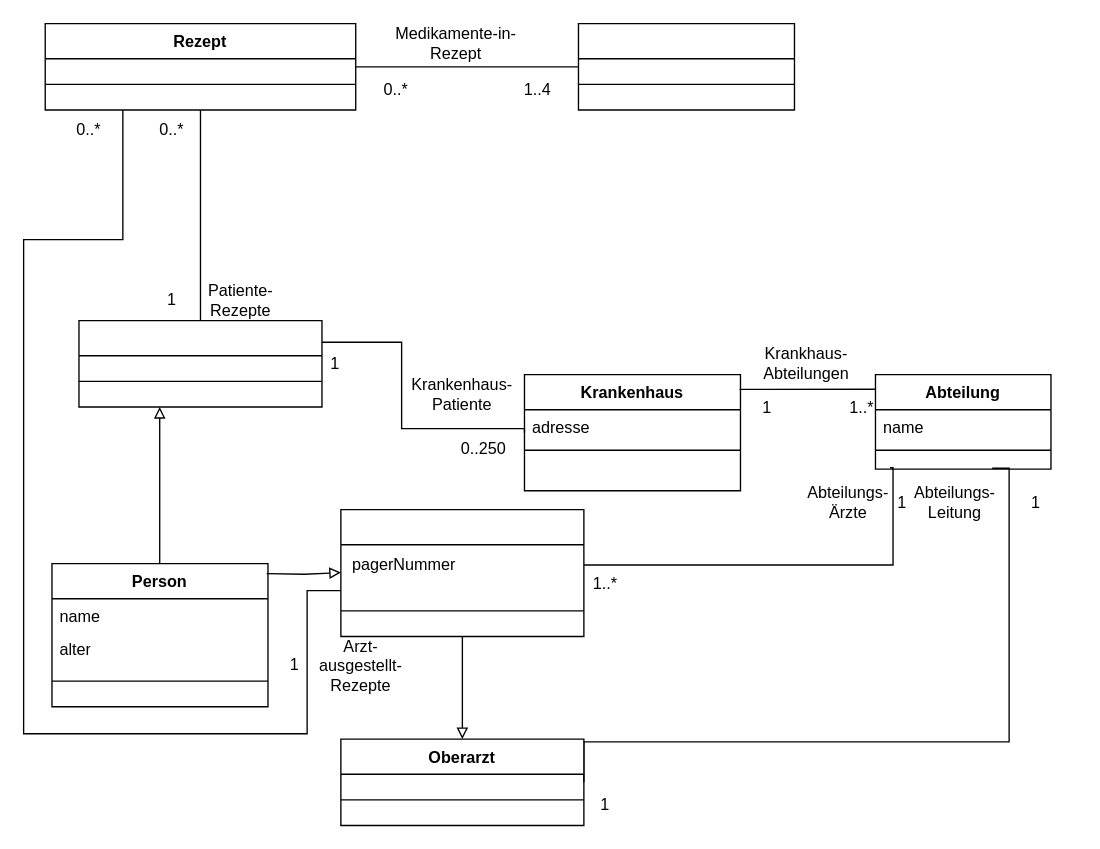
Some shapes in this 1100 by 849 pixel diagram are drawn without their labels. The shapes that lost their labels are listed below. From the top down, each one's box as (x1, y1, x2, y2) in pixels, then its label:
(577, 22, 794, 110): Medikamt
(78, 319, 322, 407): Patient
(340, 508, 584, 637): Arzt
